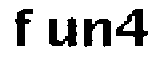4: (115, 6, 154, 50)
f: (9, 3, 37, 55)
n: (83, 14, 112, 56)
u: (44, 14, 79, 54)
